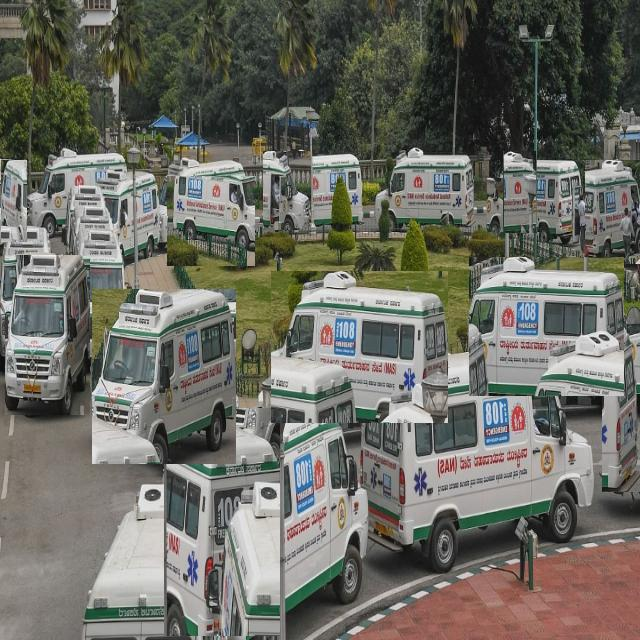emergency: (360, 331, 594, 569), (271, 271, 448, 423), (164, 409, 280, 636), (92, 289, 235, 464), (82, 482, 224, 639), (469, 258, 624, 396), (284, 400, 369, 609), (5, 255, 90, 415), (26, 149, 126, 236), (167, 176, 254, 266), (375, 149, 474, 226), (0, 227, 50, 362), (602, 325, 640, 492), (72, 207, 124, 318), (585, 160, 640, 264), (263, 151, 310, 230), (312, 153, 362, 226), (538, 160, 581, 244), (98, 171, 134, 259), (64, 184, 105, 252), (503, 151, 535, 233), (135, 171, 160, 258), (1, 160, 26, 242), (487, 178, 505, 232)
